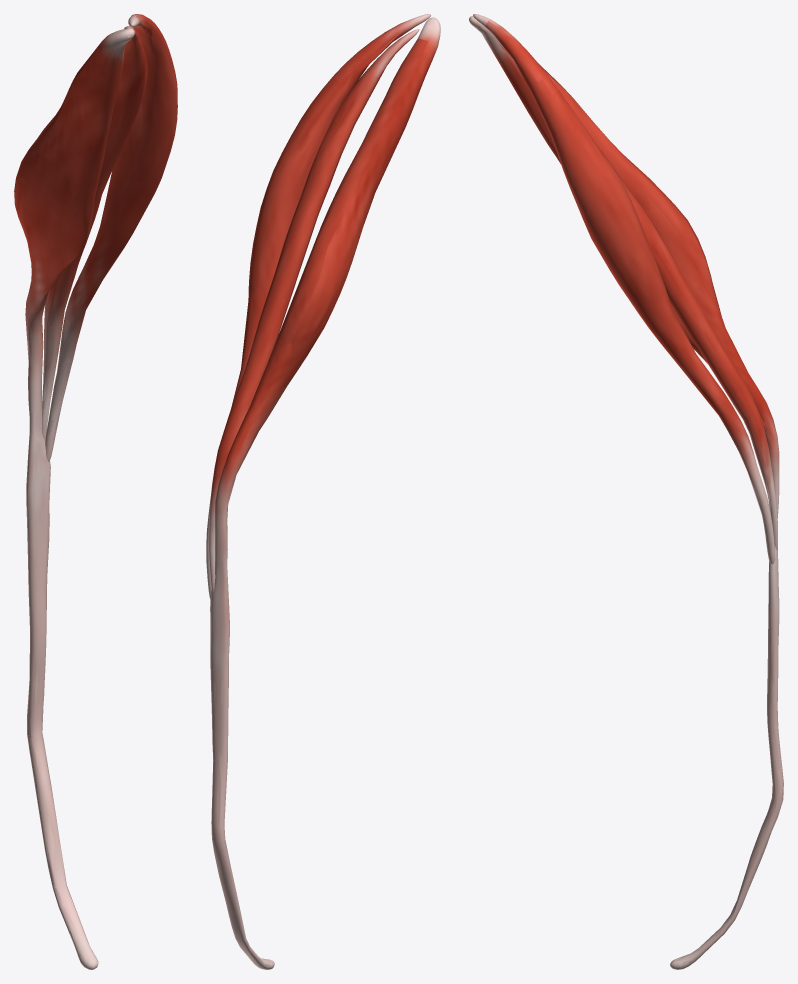
The model's file is R flexor digitorum profundus.fbx.
3 views of the same model, side by side, from view 1: azimuth 30°, elevation 25°; view 2: azimuth 150°, elevation 25°; view 3: azimuth 270°, elevation 25° (orthographic). The views are drawn at different scales.
Parts seen in each view (by area): view 1: R flexor digitorum profundus, R flexor digitorum profundus low; view 2: R flexor digitorum profundus, R flexor digitorum profundus low; view 3: R flexor digitorum profundus, R flexor digitorum profundus low.
Part boxes in pixels (bbox=[...]): R flexor digitorum profundus: bbox=[14, 14, 177, 969]; R flexor digitorum profundus low: bbox=[14, 16, 176, 965]; R flexor digitorum profundus: bbox=[206, 14, 440, 969]; R flexor digitorum profundus low: bbox=[206, 22, 437, 969]; R flexor digitorum profundus: bbox=[469, 14, 783, 969]; R flexor digitorum profundus low: bbox=[471, 15, 781, 969].
Size of the model in its own units: 11.91 by 88.92 by 27.48.
